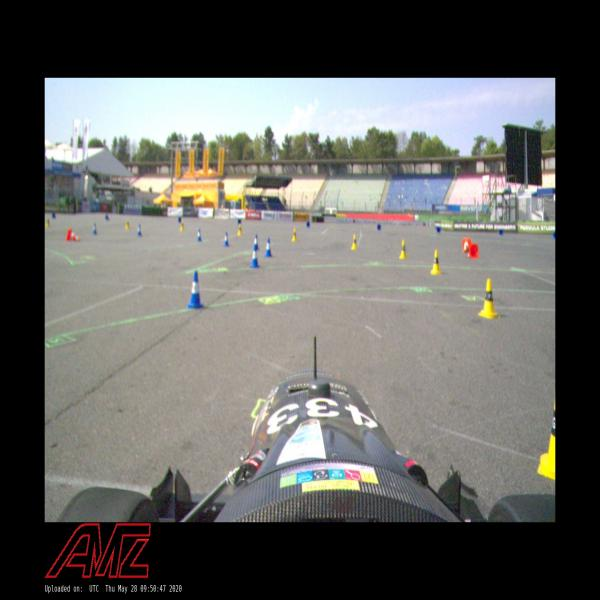blue_cone: (187, 270, 204, 309), (250, 245, 260, 270), (264, 237, 273, 258), (252, 233, 260, 251), (223, 230, 229, 248), (195, 228, 202, 243), (92, 222, 98, 236), (136, 223, 142, 236)
orange_cone: (65, 227, 81, 242), (468, 244, 480, 259), (462, 238, 472, 253)
yellow_cone: (536, 383, 555, 485), (477, 277, 499, 320), (430, 249, 442, 275), (399, 240, 408, 260), (291, 227, 298, 242), (351, 235, 358, 250), (45, 215, 51, 228), (237, 222, 242, 236), (125, 218, 130, 230), (179, 220, 184, 232)
